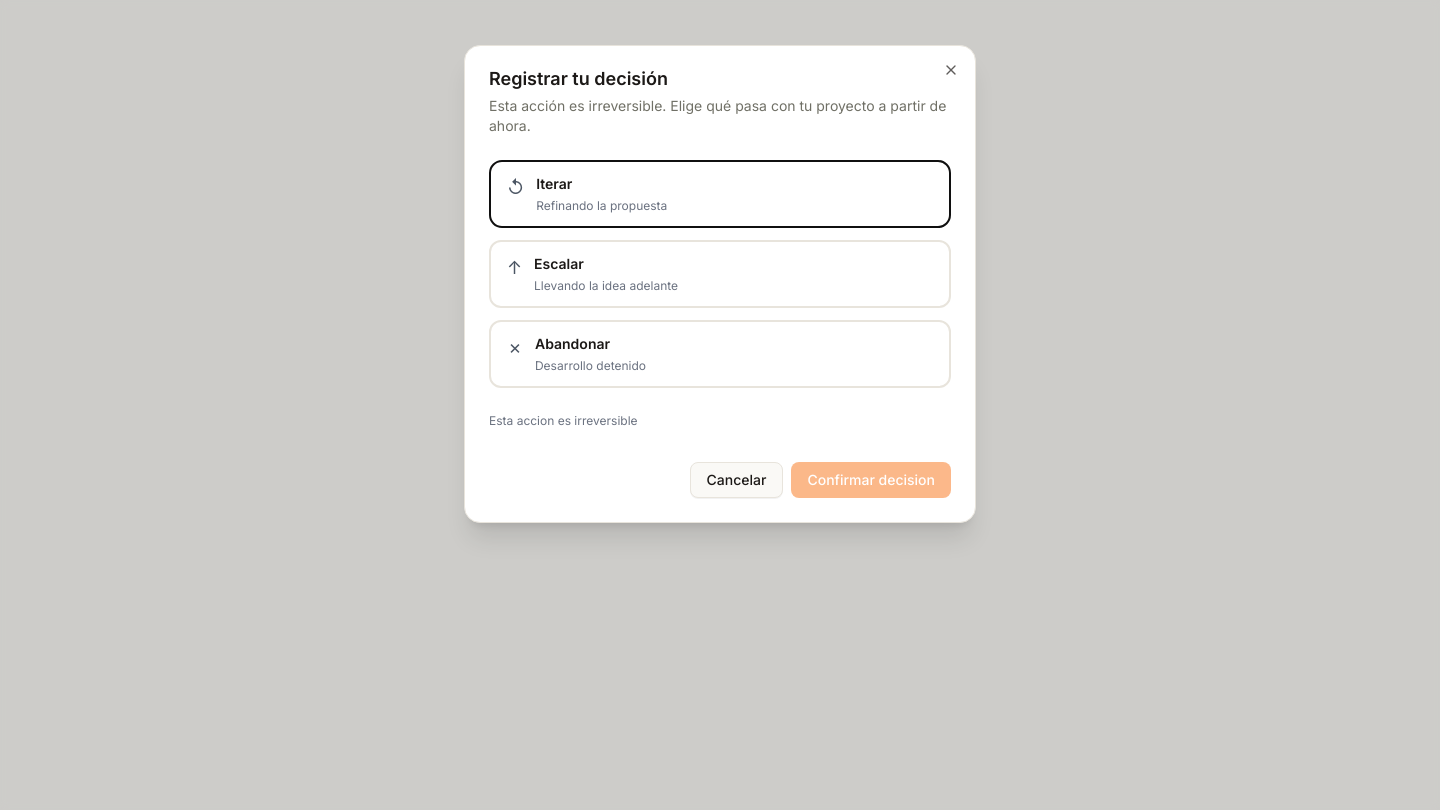
Test: DecisionDialog — selección de decisión › se puede seleccionar la opción "Abandonar"
Step 1. Click the text "Abandonar" → (573, 344), box top-left (535, 335), bottom-right (610, 352)
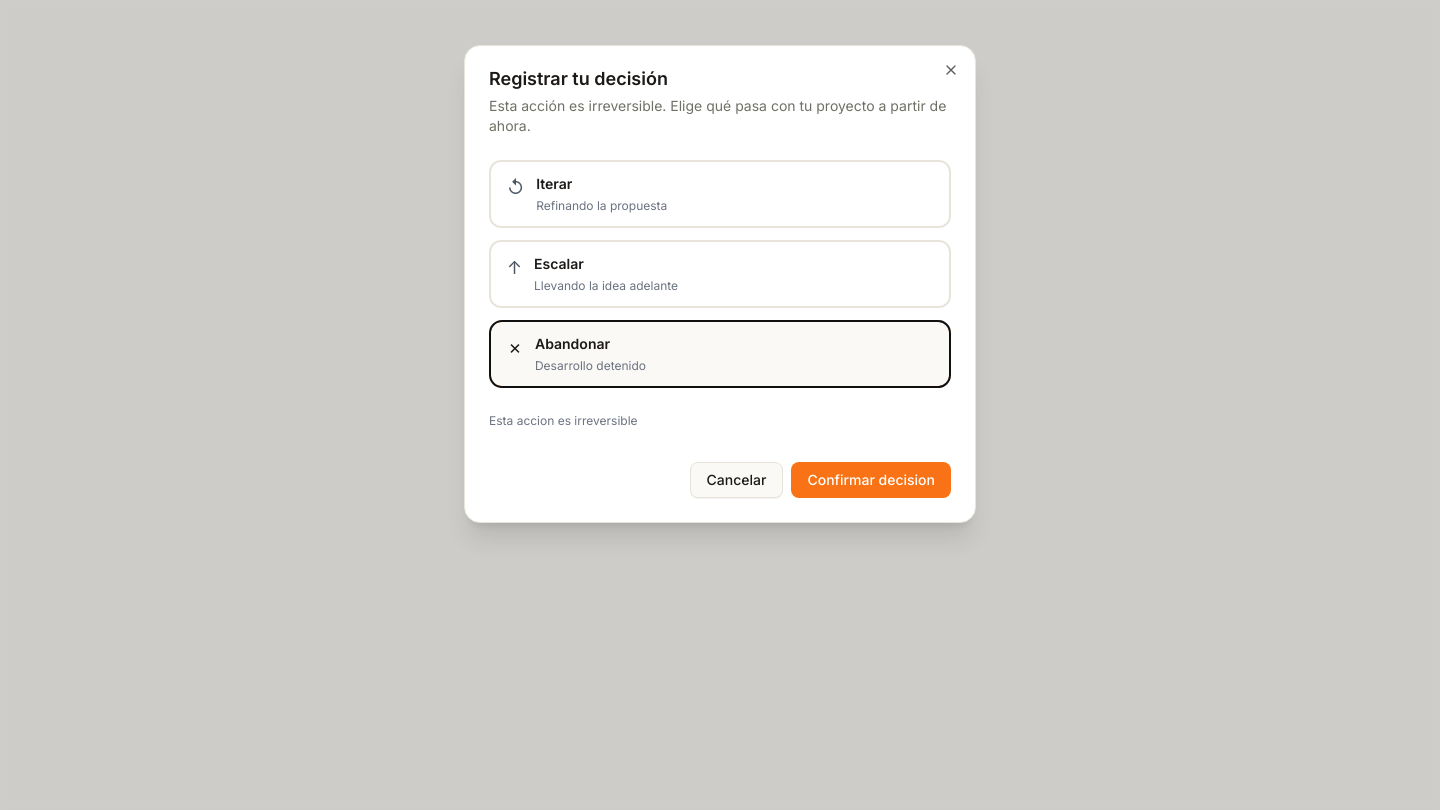
expect the button "Confirmar decision" is enabled: met, box top-left (791, 462), bottom-right (951, 498)
